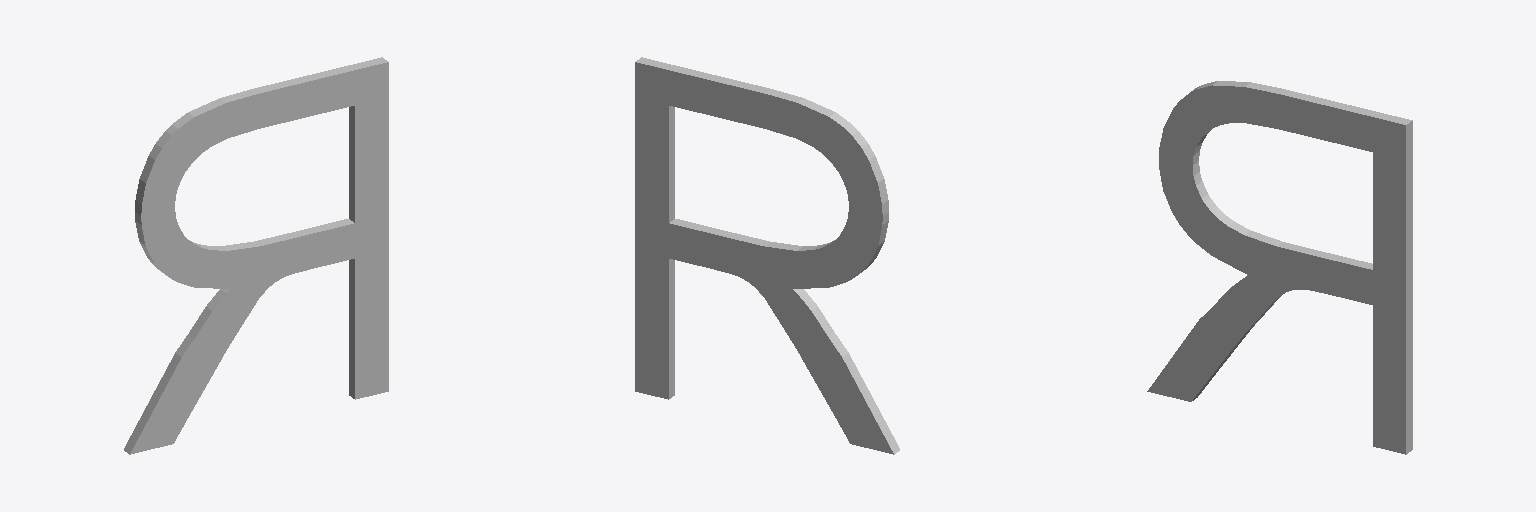
The model's file is R_UPPER.obj.
The picture shows the model from 3 angles: view 1: azimuth 30°, elevation 25°; view 2: azimuth 150°, elevation 25°; view 3: azimuth 330°, elevation 25°; orthographic projection.
Visible parts, largest first — view 1: default; view 2: default; view 3: default.
Boxes of the visible parts, box(x1,y1,x2,y2) form: default: box(124, 57, 388, 454); default: box(635, 57, 899, 454); default: box(1147, 81, 1412, 454).
Size of the model in its own units: 2.3 by 2.8 by 0.1.